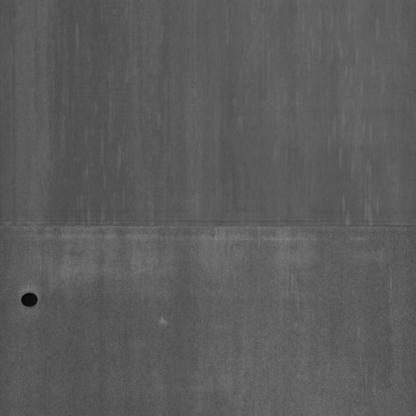punching_hole: (19, 287, 40, 314)
welding_line: (0, 214, 414, 242)
